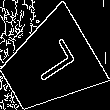L_SW: (22, 39, 77, 91)
